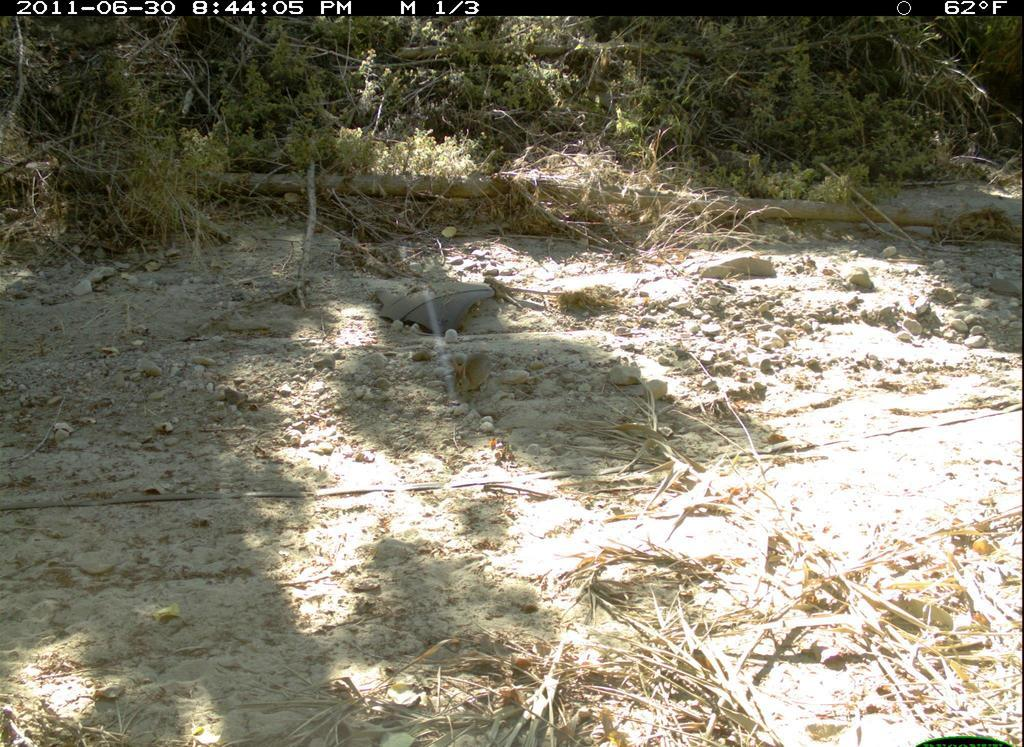rabbit: (449, 351, 496, 402)
